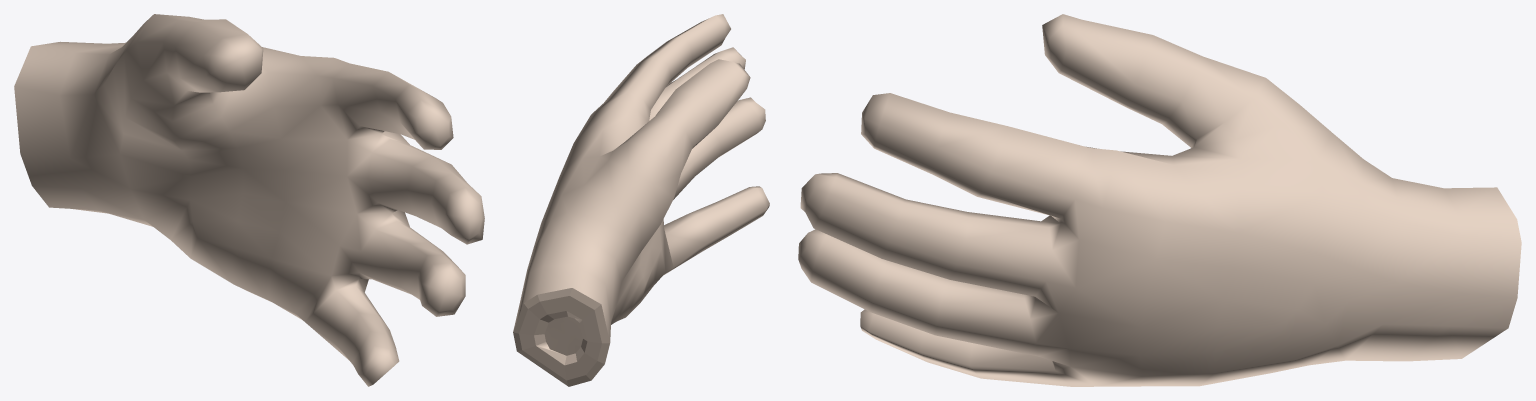
Rendered from sm_hand_low.fbx.
3 views of the same model, side by side, from view 1: azimuth 30°, elevation 25°; view 2: azimuth 150°, elevation 25°; view 3: azimuth 270°, elevation 25° (orthographic). The views are drawn at different scales.
Parts seen in each view (by area): view 1: polySurface2; view 2: polySurface2; view 3: polySurface2.
Part boxes in pixels (<box>): polySurface2: <box>14,14,484,386</box>; polySurface2: <box>513,14,769,386</box>; polySurface2: <box>798,14,1521,386</box>.
Size of the model in its own units: 87.62 by 128 by 255.
